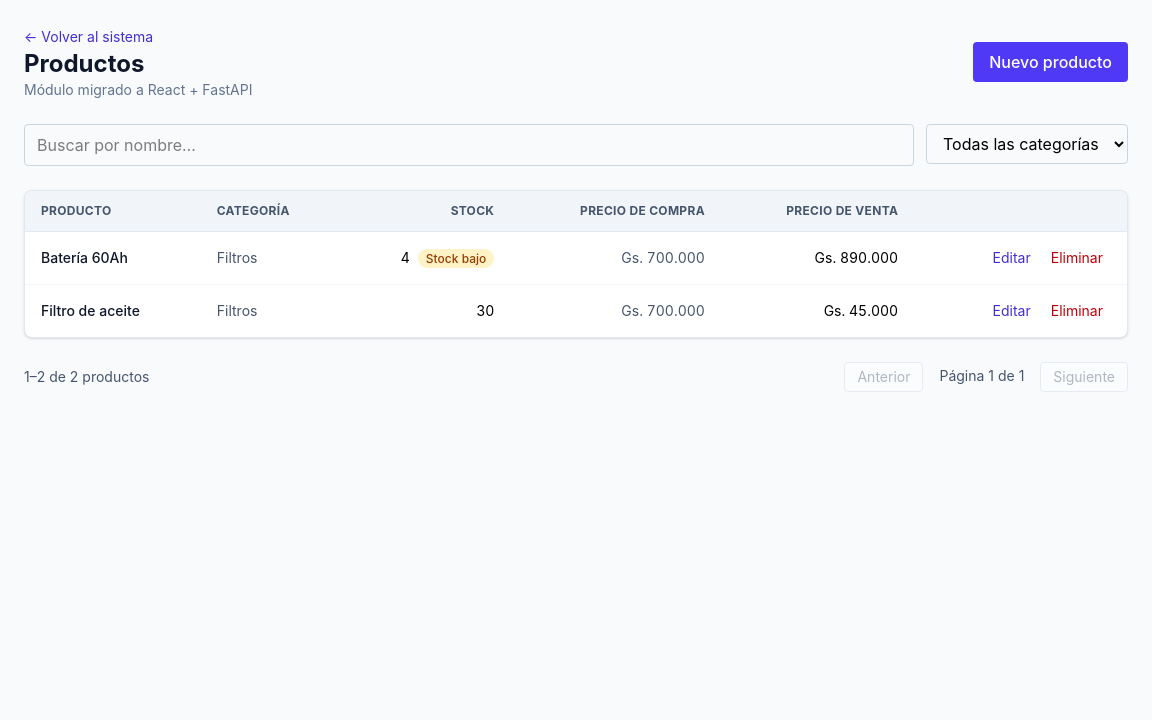
Test: PaginaProductos › valida el formulario antes de enviarlo
The width and height of the screenshot is (1152, 720).
Step 1. Click the button "Nuevo producto" → (1051, 62), box 973,42 -> 1128,82
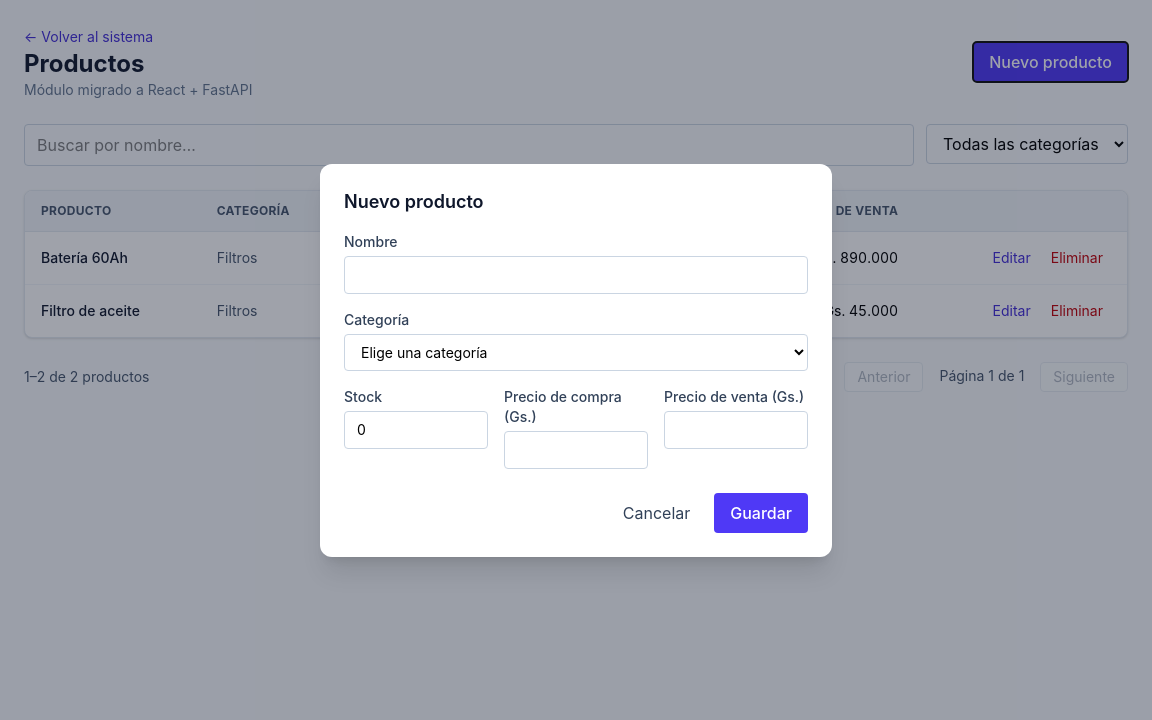
Step 2. Click the button "Guardar" → (761, 512), box 714,492 -> 808,532
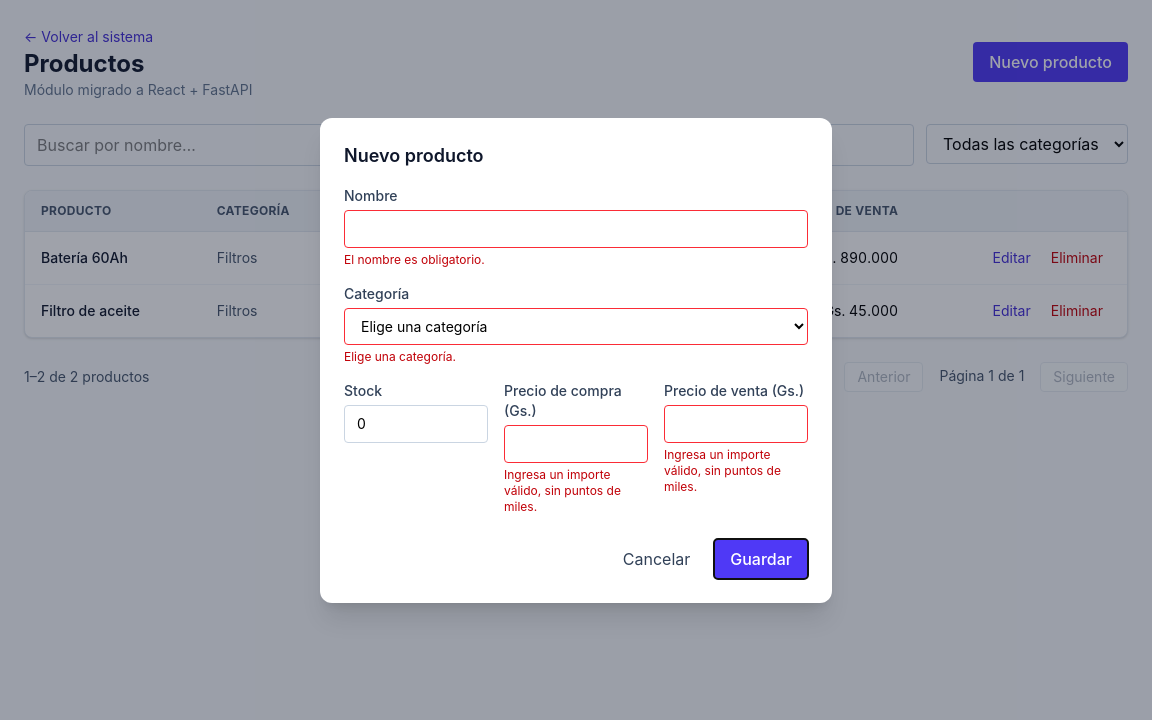
Now the text "El nombre es obligatorio." is shown, box 344,252 -> 485,266
Now the text "Elige una categoría." is shown, box 344,348 -> 456,364
